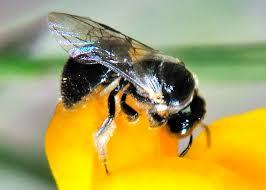Braunsapis: (41, 3, 222, 173)
